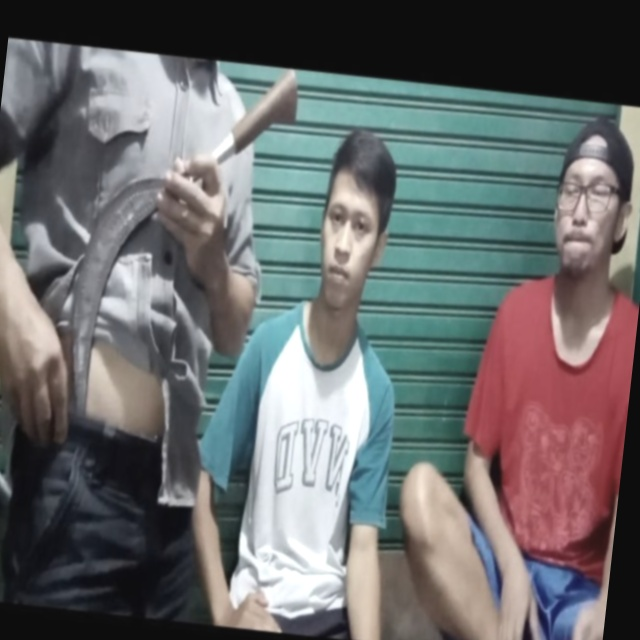Sharp-Object: (42, 42, 333, 443)
